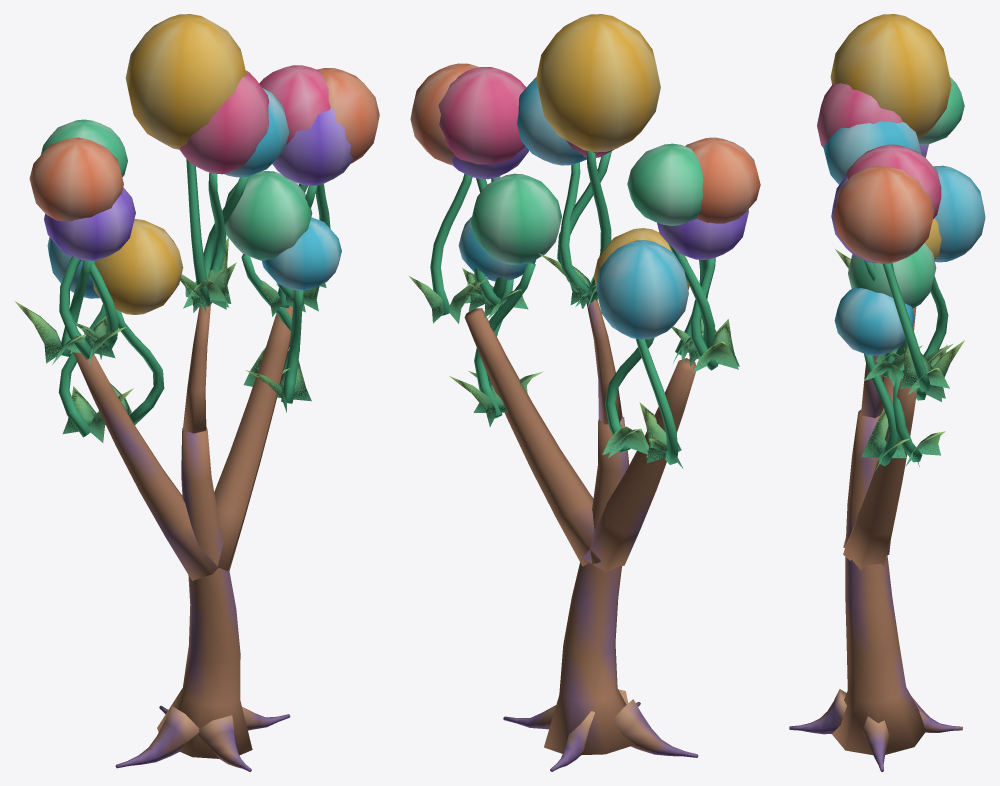
Rendered from verdant_tree_balloon_b.glb.
3 renders of one model, left to right at view 1: azimuth 30°, elevation 25°; view 2: azimuth 150°, elevation 25°; view 3: azimuth 270°, elevation 25°, orthographic. The views are drawn at different scales.
Parts seen in each view (by area): view 1: verdant_tree_balloon_b; view 2: verdant_tree_balloon_b; view 3: verdant_tree_balloon_b.
Boxes of the visible parts, left/top/right/bottom form: verdant_tree_balloon_b: left=15, top=14, right=379, bottom=771; verdant_tree_balloon_b: left=409, top=14, right=760, bottom=771; verdant_tree_balloon_b: left=789, top=14, right=985, bottom=771.
Bounding box in the file's own units: 4.65 × 9.62 × 2.4.
